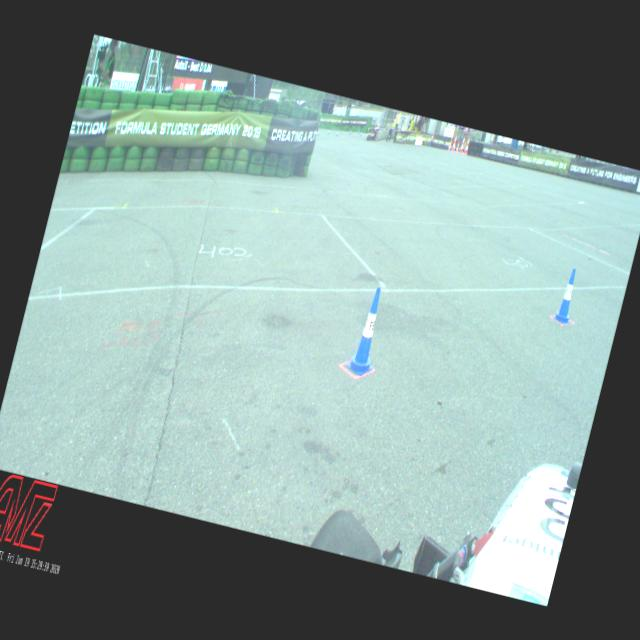blue_cone: (345, 285, 391, 376), (552, 266, 582, 324), (348, 128, 352, 136), (462, 146, 466, 153), (356, 128, 359, 136), (449, 143, 452, 151), (453, 144, 456, 152), (458, 144, 461, 152), (317, 129, 320, 136), (335, 130, 338, 136), (360, 130, 362, 137), (327, 130, 329, 134)
large_orange_cone: (463, 136, 471, 155), (458, 134, 466, 153), (450, 134, 458, 152), (446, 138, 452, 152), (454, 140, 460, 152)
